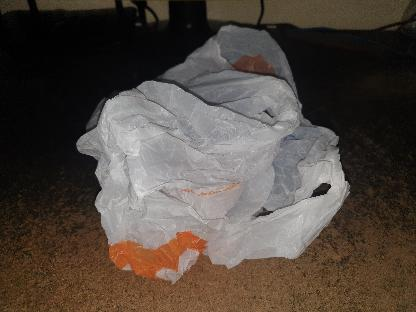Plastic Bag: (75, 25, 350, 283)
